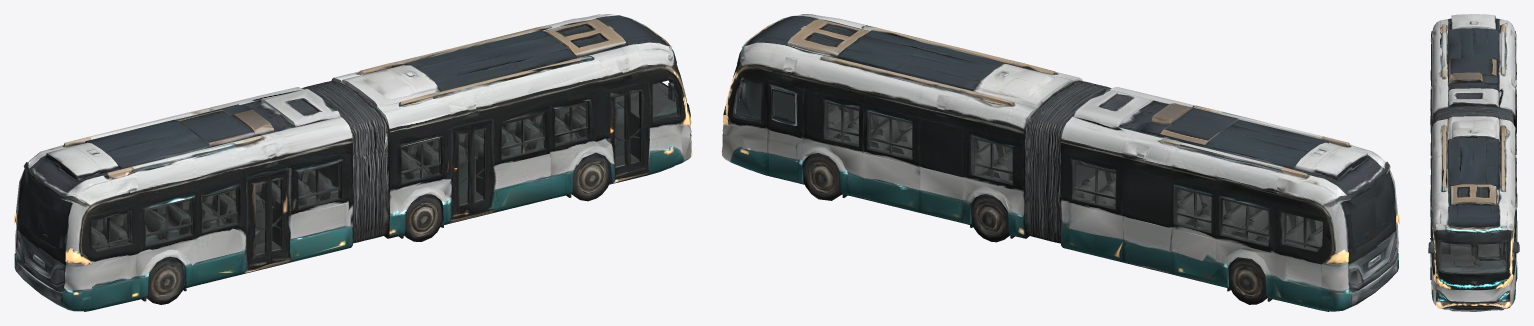
File: bus.glb
3 renders of one model, left to right at view 1: azimuth 30°, elevation 25°; view 2: azimuth 150°, elevation 25°; view 3: azimuth 270°, elevation 25°, orthographic. The views are drawn at different scales.
Visible parts, largest first — view 1: bus; view 2: bus; view 3: bus.
Part boxes in pixels (x1,y1,x2,y2): bus: [14, 14, 692, 311]; bus: [721, 14, 1399, 311]; bus: [1428, 14, 1519, 311].
Size of the model in its own units: 18 by 3.83 by 3.16.
Materials: 1 (1 with a texture image).
